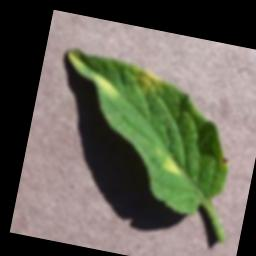Leaf_Mold: (128, 64, 171, 99), (158, 148, 187, 176), (96, 73, 120, 99), (63, 46, 86, 70)
